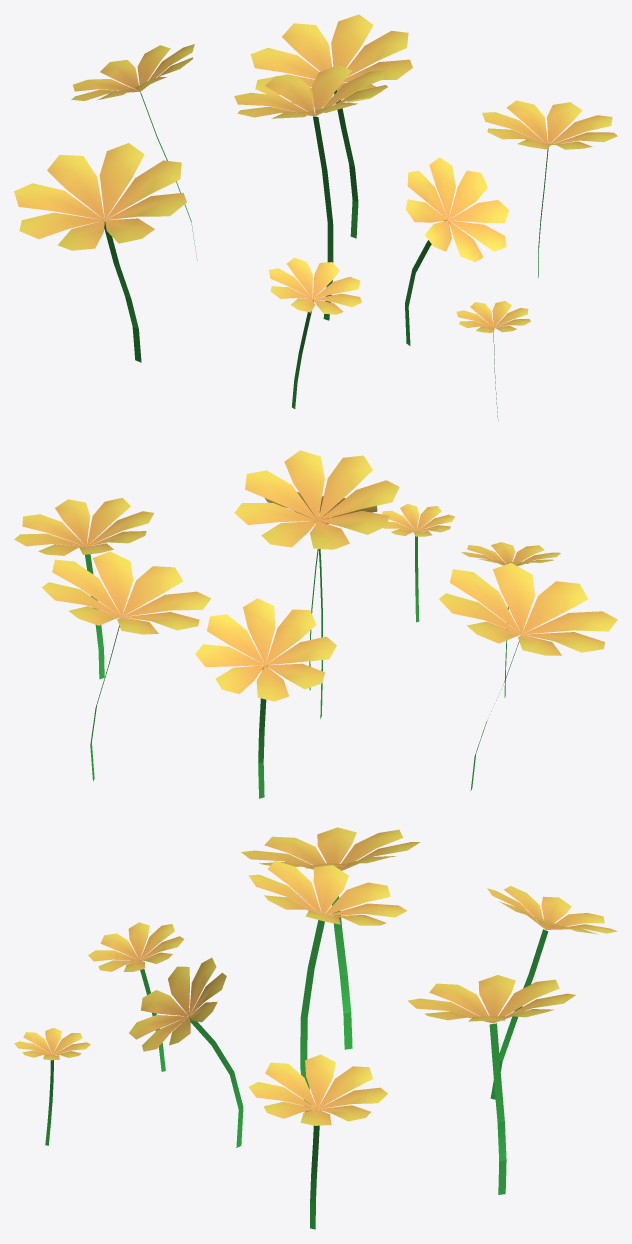
The model's file is SM_Flores02.fbx.
3 renders of one model, top to bottom at view 1: azimuth 30°, elevation 25°; view 2: azimuth 150°, elevation 25°; view 3: azimuth 270°, elevation 25°, orthographic. The views are drawn at different scales.
Parts seen in each view (by area): view 1: Plane.019; view 2: Plane.019; view 3: Plane.019.
Boxes of the visible parts, bbox=[...] form: Plane.019: bbox=[14, 14, 617, 420]; Plane.019: bbox=[14, 450, 617, 798]; Plane.019: bbox=[14, 827, 617, 1229].
Size of the model in its own units: 35.31 by 14.96 by 32.28.
